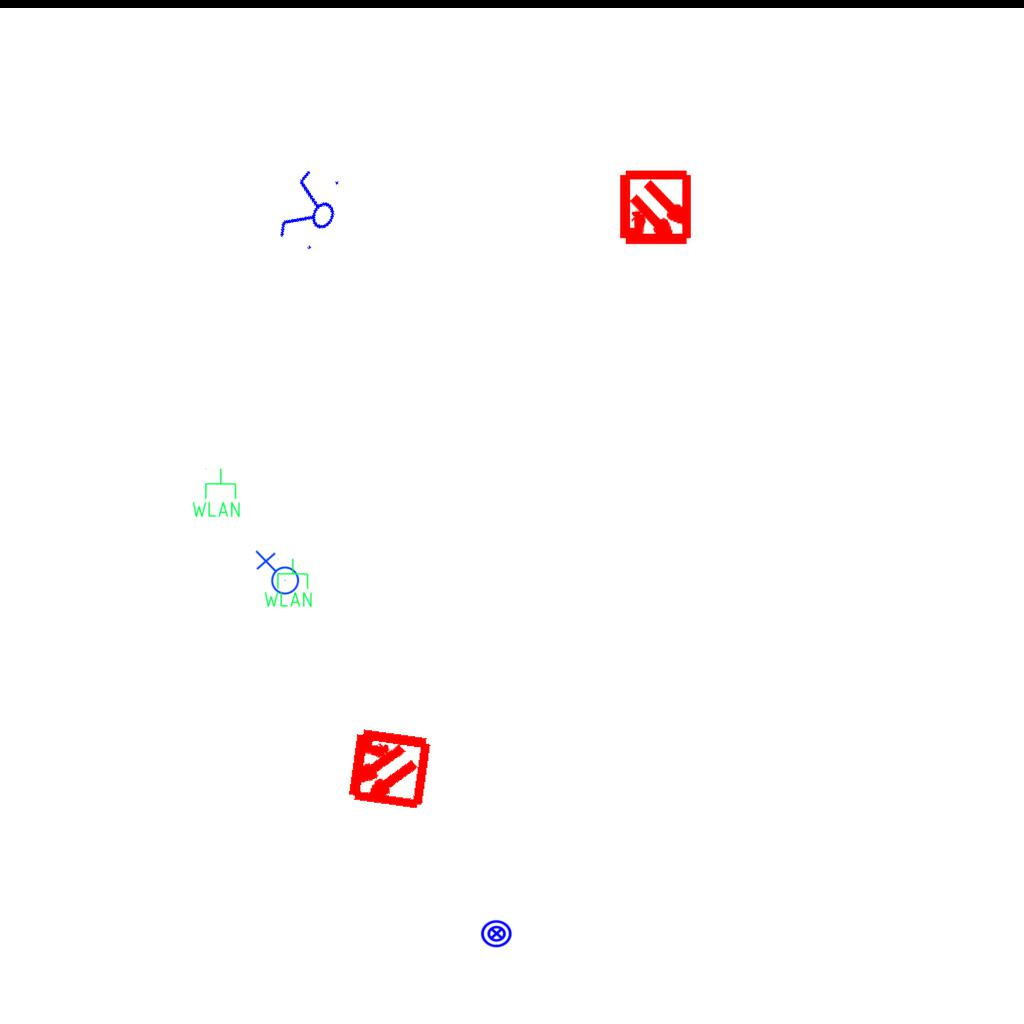Elektroanschluss_allgemein_230V_Geraeteanschlussdose_230V: (253, 550, 300, 599)
OT_Multisensormelder_(Kombination_RMO_WMD): (323, 704, 452, 833), (599, 153, 712, 266)
Serienschalter: (272, 162, 350, 260)
Taster_beleuchtet: (480, 917, 513, 950)
WLAN: (190, 467, 242, 519), (262, 557, 314, 609)
